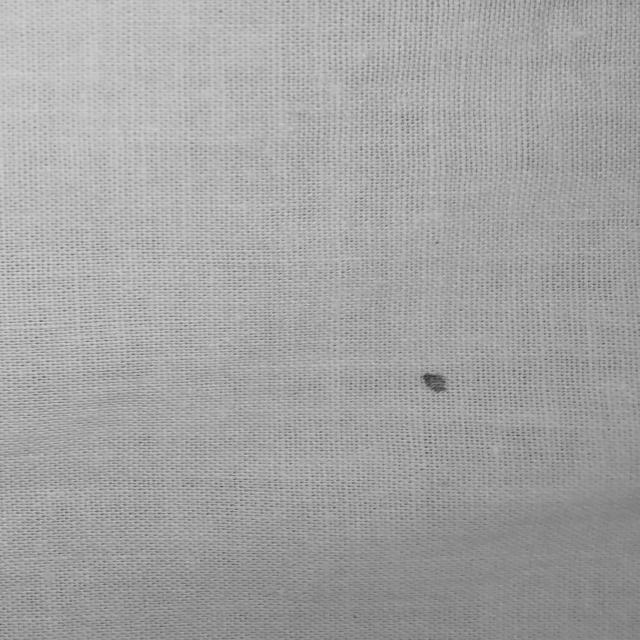Stain: (422, 374, 447, 393)
